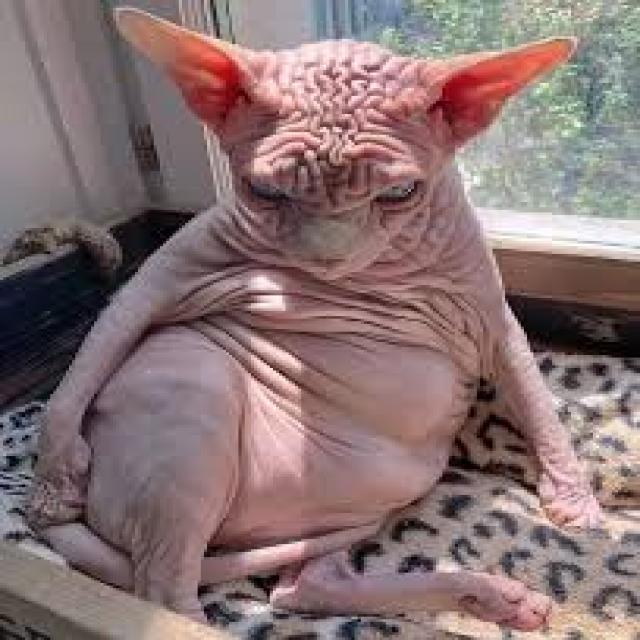cat: (51, 3, 634, 638)
